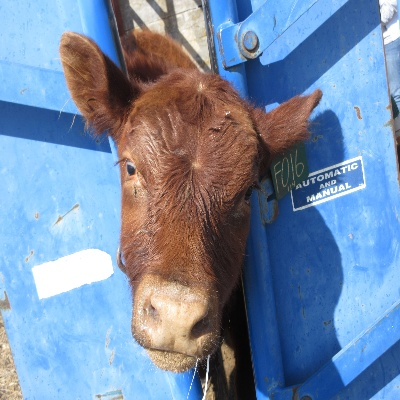fidget_spinner: (139, 288, 213, 363)
